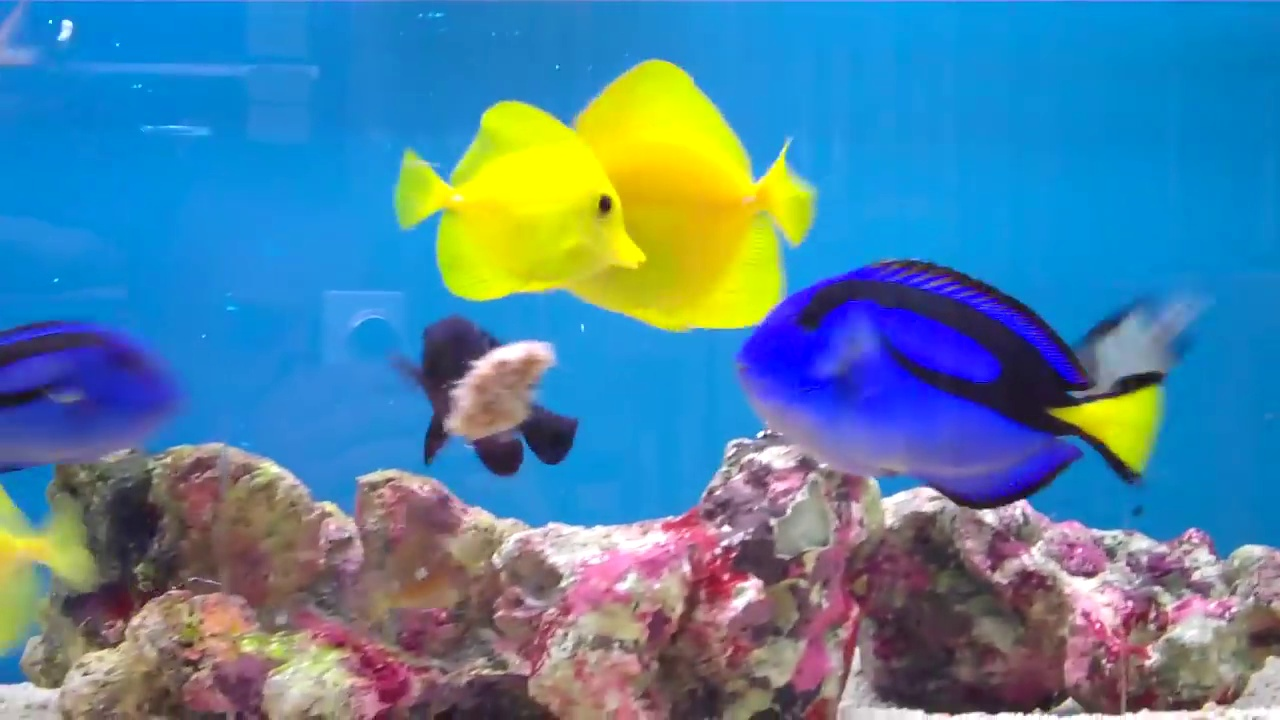blue tang surgeonfish: (730, 255, 1164, 524)
saddle butterfly fish: (541, 45, 829, 342), (366, 87, 659, 314)
